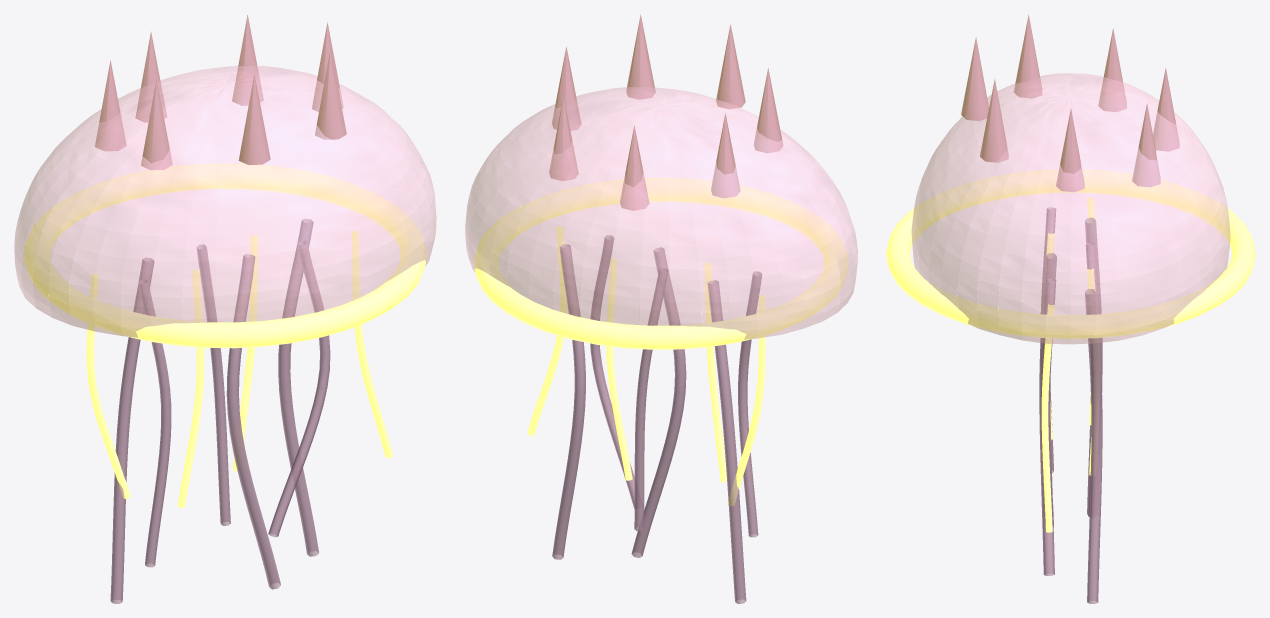
File: crown-jelly.glb
The picture shows the model from 3 angles, left to right: view 1: azimuth 30°, elevation 25°; view 2: azimuth 150°, elevation 25°; view 3: azimuth 270°, elevation 25°; orthographic projection. The views are drawn at different scales.
Parts seen in each view (by area): view 1: body, tentacle (×10), glowing_rim, crown_spike (×7); view 2: body, tentacle (×10), glowing_rim, crown_spike (×7); view 3: body, glowing_rim, tentacle (×7), crown_spike (×7).
Boxes of the visible parts, left/top/right/bottom form: body: left=14, top=66, right=436, bottom=337; tentacle (×10): left=86, top=219, right=392, bottom=603; glowing_rim: left=24, top=163, right=426, bottom=348; crown_spike (×7): left=95, top=15, right=346, bottom=170; body: left=465, top=87, right=857, bottom=339; tentacle (×10): left=527, top=226, right=765, bottom=603; glowing_rim: left=474, top=177, right=848, bottom=349; crown_spike (×7): left=549, top=14, right=783, bottom=210; body: left=911, top=73, right=1230, bottom=344; glowing_rim: left=886, top=169, right=1255, bottom=338; tentacle (×7): left=1039, top=207, right=1102, bottom=603; crown_spike (×7): left=961, top=14, right=1179, bottom=192.
Bounding box in the file's own units: 1.89 × 2.61 × 1.71.
